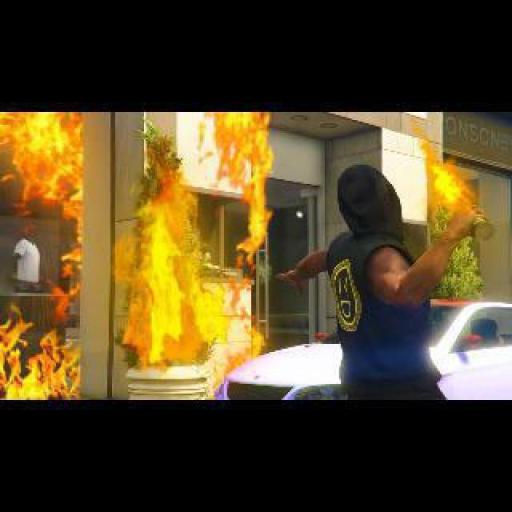smoke: (2, 112, 90, 398), (110, 170, 232, 356), (198, 112, 272, 269), (413, 131, 486, 218), (200, 326, 267, 398)
